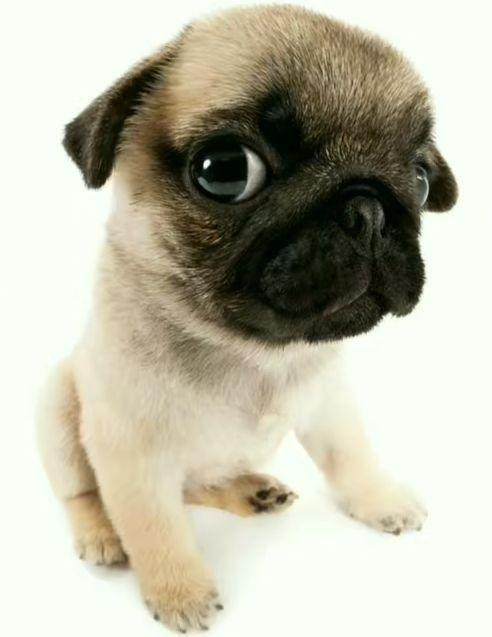puppy-dog: (35, 3, 459, 632)
